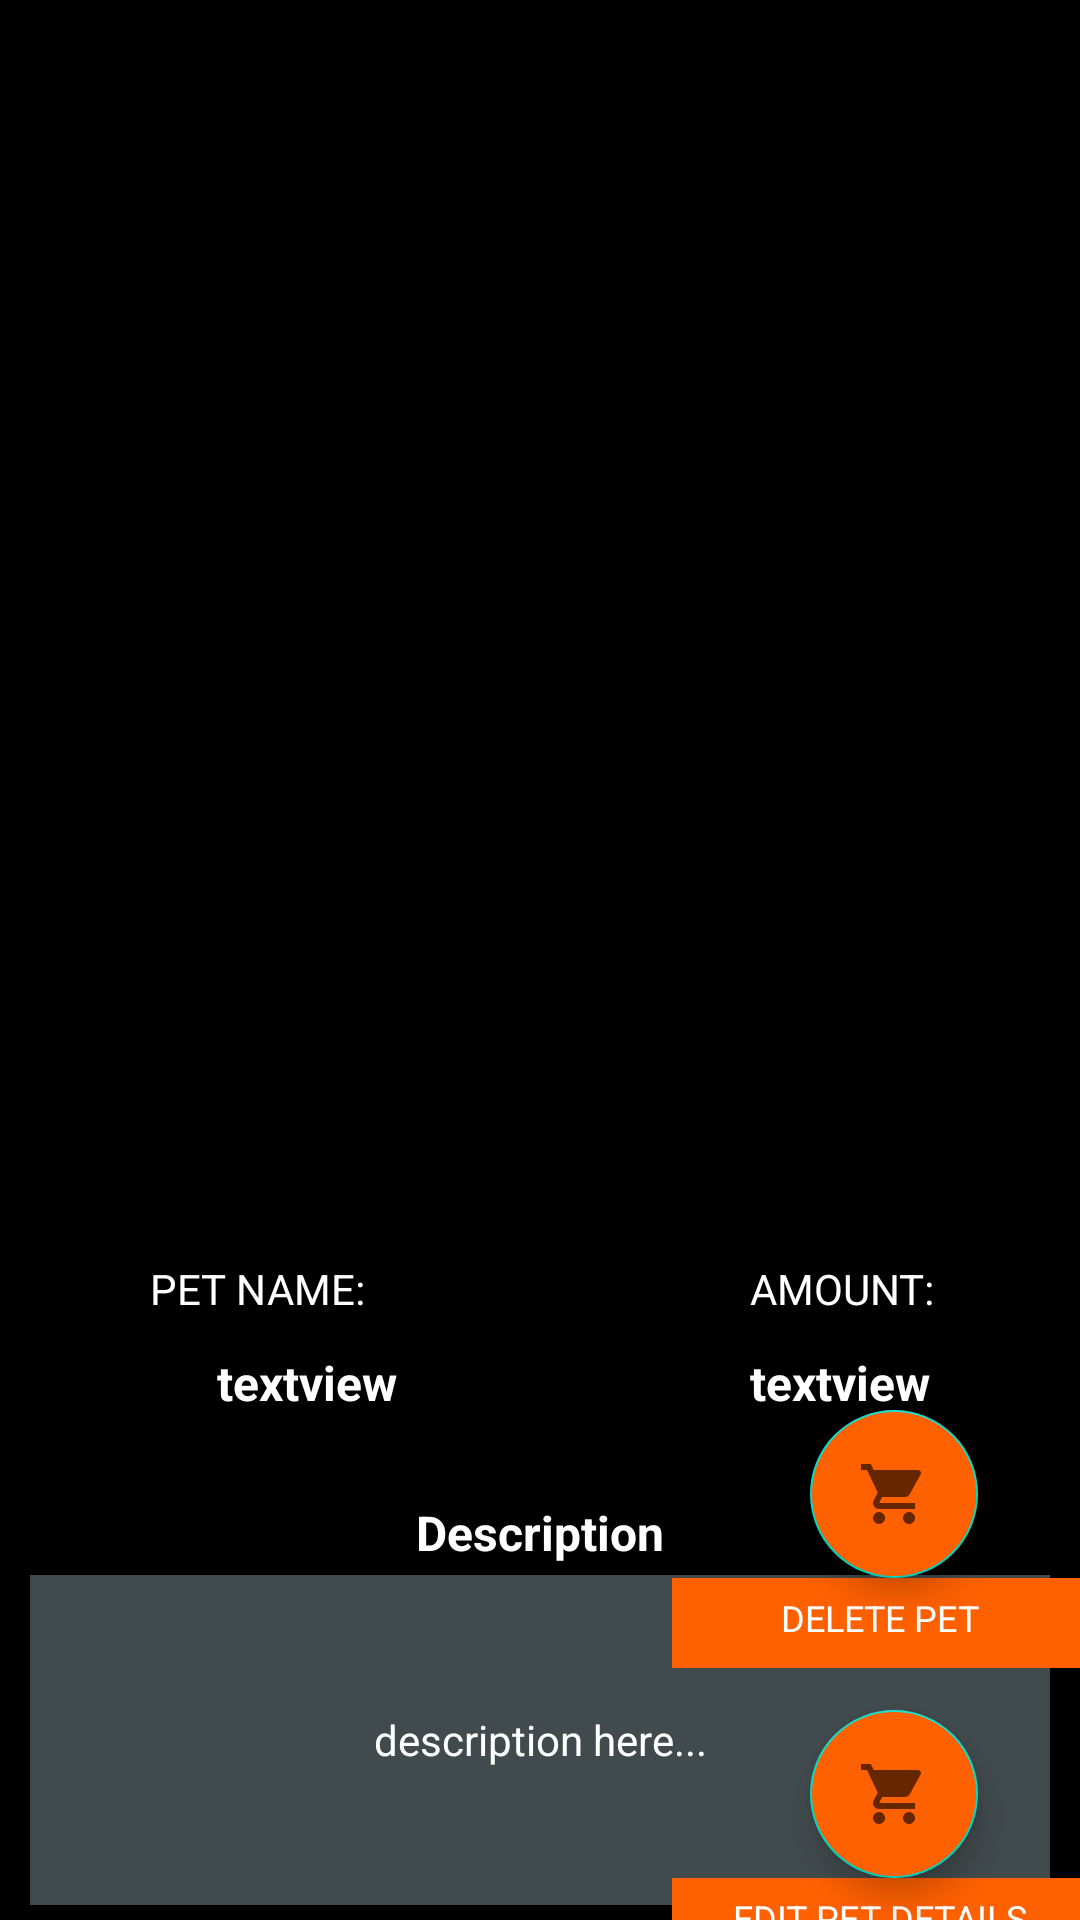

Icons on this 1080x1920 Android screen, each with its box as {"left": x1, "top": y1, "right": x2, "bottom": y2}:
shopping cart: {"left": 810, "top": 1410, "right": 978, "bottom": 1578}, {"left": 810, "top": 1710, "right": 978, "bottom": 1878}
